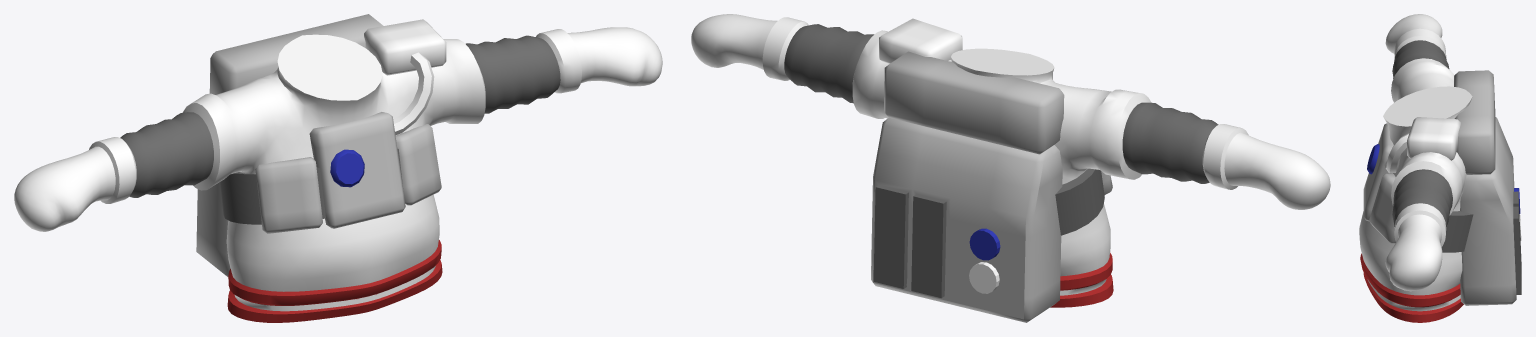
The model's file is 18宇航套装.fbx.
The picture shows the model from 3 angles, left to right: view 1: azimuth 30°, elevation 25°; view 2: azimuth 150°, elevation 25°; view 3: azimuth 270°, elevation 25°; orthographic projection. The views are drawn at different scales.
Visible parts, largest first — view 1: 18宇航套装; view 2: 18宇航套装; view 3: 18宇航套装.
Part boxes in pixels (<box>): 18宇航套装: <box>14,14,662,322</box>; 18宇航套装: <box>691,14,1330,322</box>; 18宇航套装: <box>1359,14,1521,322</box>.
Bounding box in the file's own units: 1.98 × 0.6847 × 0.5419.
